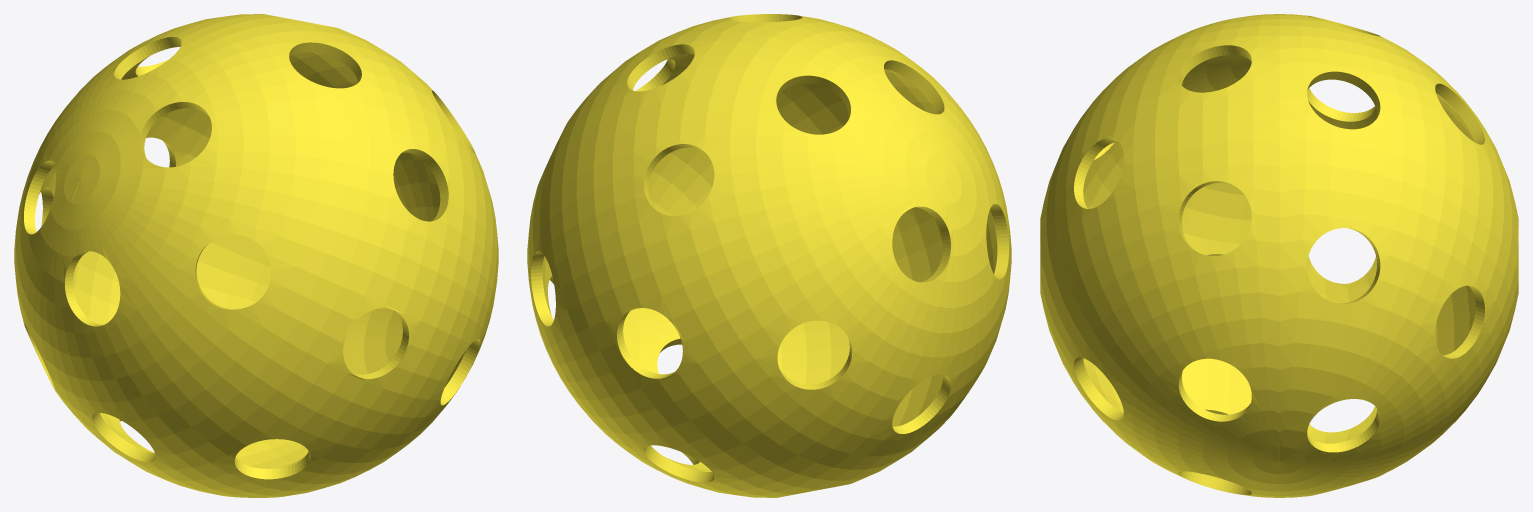
Rendered from pollen.obj.
3 views of the same model, side by side, from view 1: azimuth 30°, elevation 25°; view 2: azimuth 150°, elevation 25°; view 3: azimuth 270°, elevation 25° (orthographic).
Parts seen in each view (by area): view 1: pollen; view 2: pollen; view 3: pollen.
Boxes of the visible parts, left/top/right/bottom form: pollen: left=14, top=14, right=498, bottom=497; pollen: left=527, top=14, right=1011, bottom=497; pollen: left=1040, top=14, right=1518, bottom=497.
Size of the model in its own units: 2.8 by 2.8 by 2.77.
